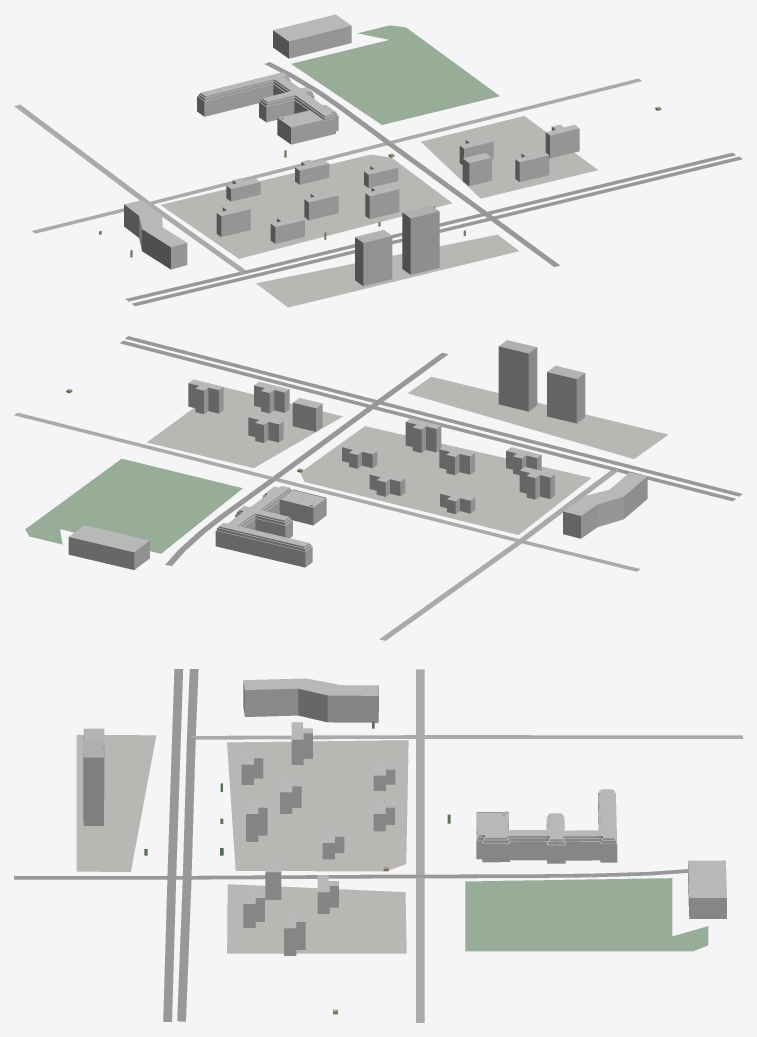
3 renders of one model, top to bottom at view 1: azimuth 30°, elevation 25°; view 2: azimuth 150°, elevation 25°; view 3: azimuth 270°, elevation 25°, orthographic. The views are drawn at different scales.
Bounding box in the file's own units: 672 × 60.95 × 577.
